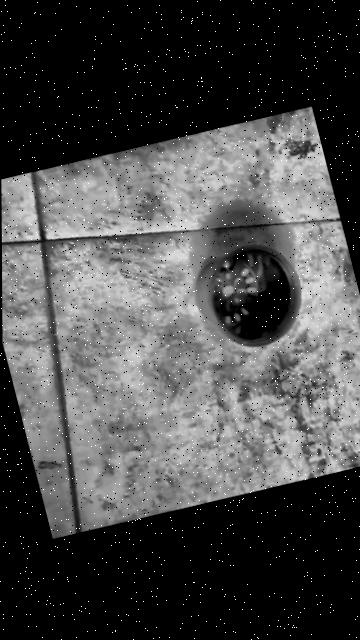pot: (186, 235, 312, 359)
